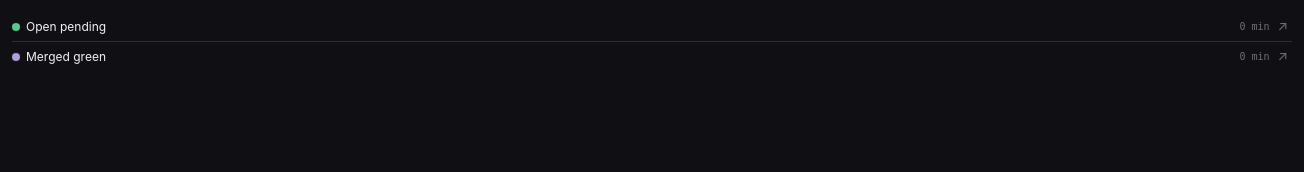
Test: PrListWidget › row click expands inline details; second click collapses
This screenshot has width=1304, height=172.
Expected: the text "Open pending" is shown, [26,19,106,34]
Click the button "Open pending 0 min" at (66, 26), box [12,12,1270,41]
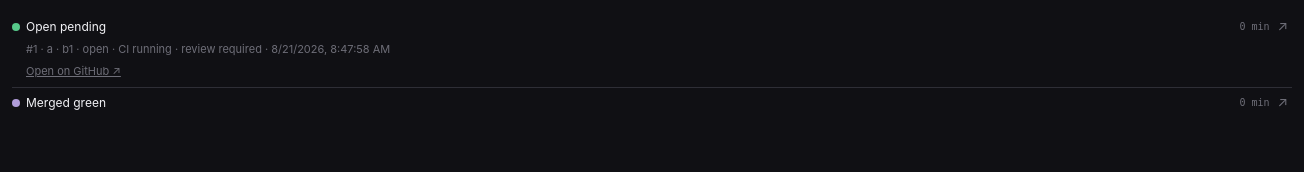
Result: the text "#1" is shown at [26,42,38,56]
Result: the text "b1" is shown at [62,42,73,56]
Result: the text "CI running" is shown at [118,42,172,56]
Click the button "Open pending 0 min" at (66, 26), box [12,12,1270,41]
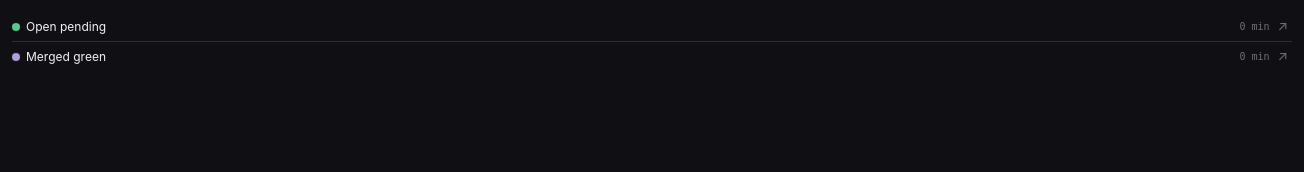
Result: the text "#1" is gone
